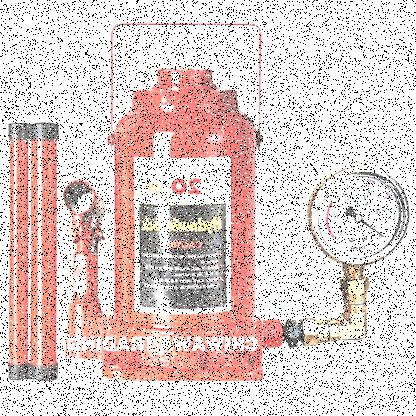needle: (359, 217, 386, 239)
